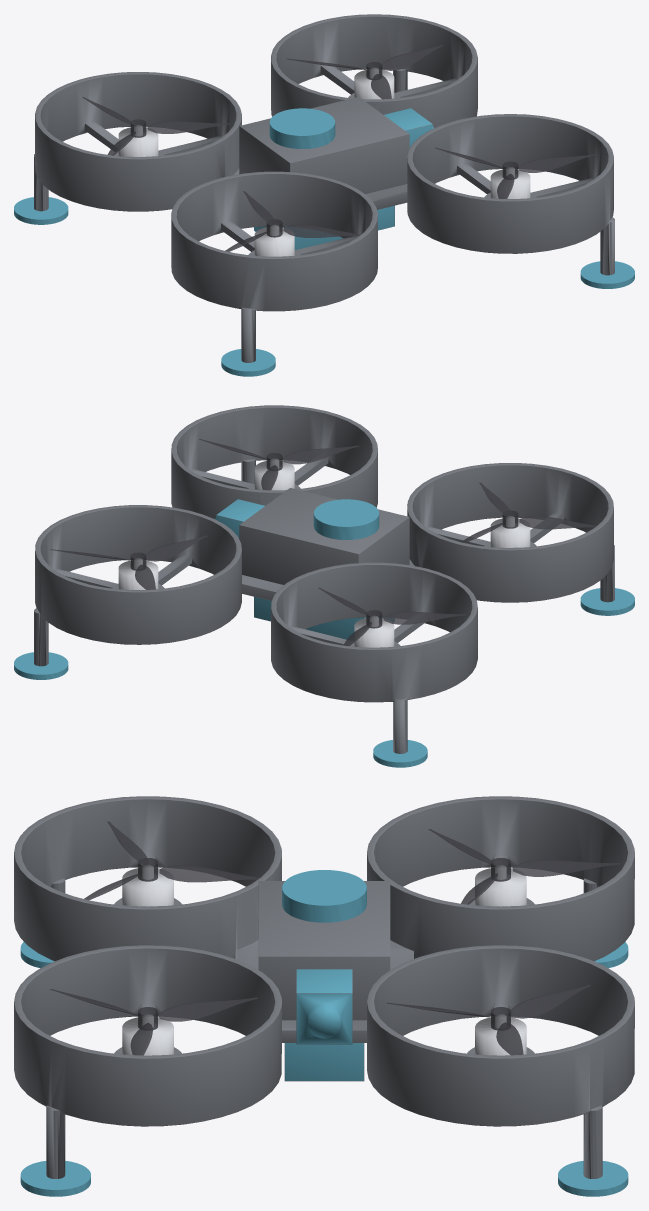
Rendered from atalanta.glb.
The picture shows the model from 3 angles, top to bottom: view 1: azimuth 30°, elevation 25°; view 2: azimuth 150°, elevation 25°; view 3: azimuth 270°, elevation 25°; orthographic projection. The views are drawn at different scales.
Visible parts, largest first — view 1: Atalanta V1; view 2: Atalanta V1; view 3: Atalanta V1.
Boxes of the visible parts, x1=… form: Atalanta V1: x1=14, y1=14, x2=634, y2=376; Atalanta V1: x1=14, y1=405, x2=634, y2=767; Atalanta V1: x1=14, y1=796, x2=634, y2=1196.
Bounding box in the file's own units: 0.264 × 0.0782 × 0.264.
